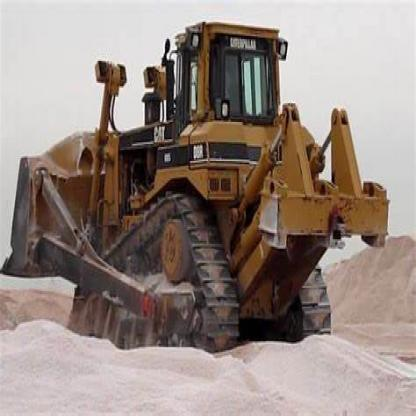bull_dozer/loader/grader: (10, 22, 388, 392)
